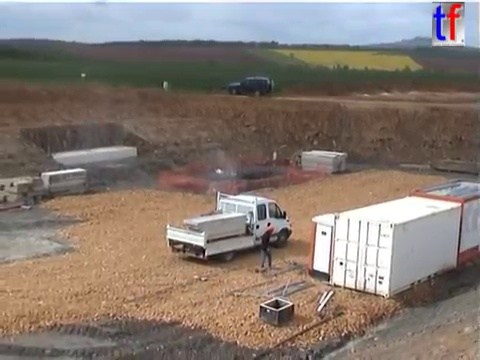truck: (163, 189, 295, 264)
worker: (257, 223, 278, 270)
